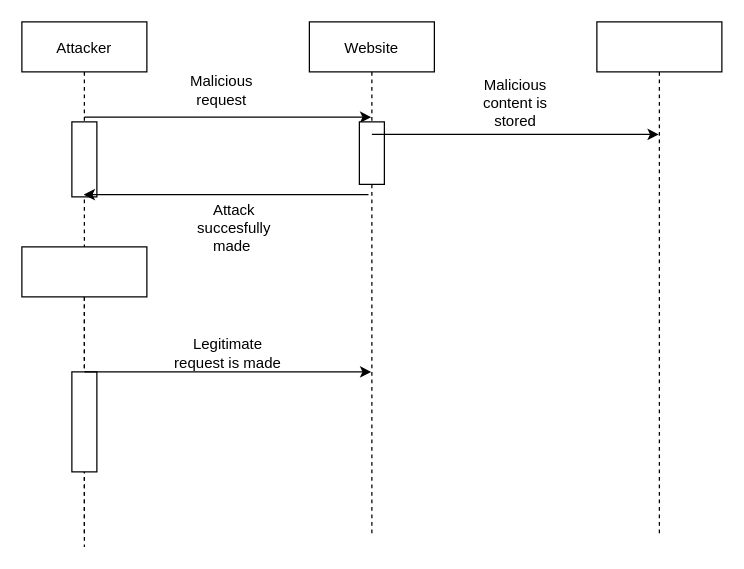
This 744x569 diagram has some shape labels left out. The shapes that lost their labels are listed below. From the top down, each one's box as (x1, y1, x2, y2) in pixels, then its label:
(596, 21, 722, 534): Storage
(21, 246, 147, 547): Victim
